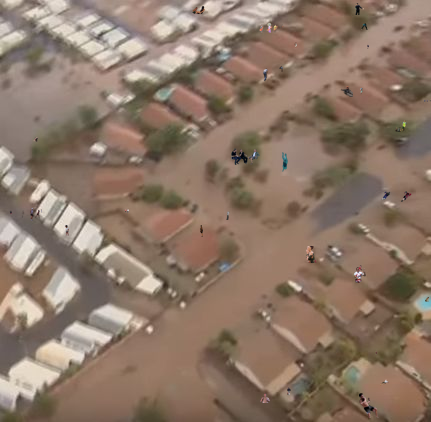Human: (359, 393, 379, 418), (260, 387, 291, 403), (231, 148, 260, 165), (7, 208, 44, 221), (381, 191, 412, 202), (263, 65, 283, 82), (259, 21, 284, 33), (300, 246, 317, 263), (353, 265, 366, 284), (395, 120, 411, 132), (338, 86, 353, 97), (282, 152, 288, 172), (367, 43, 387, 49), (355, 3, 364, 15), (192, 6, 205, 14), (361, 23, 371, 30), (380, 379, 389, 386), (65, 225, 69, 236), (200, 225, 203, 237), (226, 211, 230, 220), (33, 137, 38, 142), (360, 88, 363, 95), (424, 99, 431, 102), (425, 297, 429, 302), (294, 42, 297, 48), (125, 209, 129, 213), (375, 351, 377, 355), (184, 252, 185, 253)
